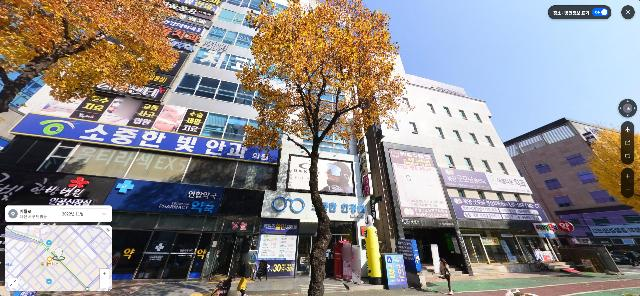ginkgo: (236, 0, 412, 296), (0, 0, 180, 113), (588, 128, 640, 213)
